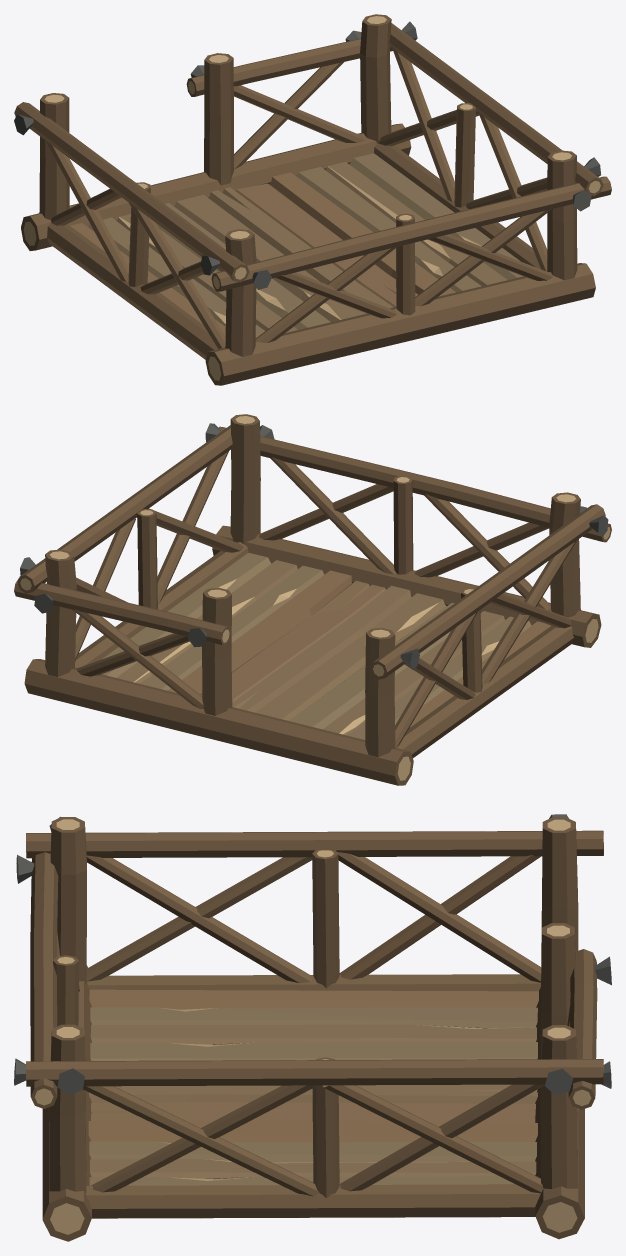
File: rpgpp_ag_tower_01_platform_01a.fbx
3 views of the same model, one above another, from view 1: azimuth 30°, elevation 25°; view 2: azimuth 150°, elevation 25°; view 3: azimuth 270°, elevation 25° (orthographic). The views are drawn at different scales.
Parts seen in each view (by area): view 1: rpgpp_ag_tower_01_platform_01a; view 2: rpgpp_ag_tower_01_platform_01a; view 3: rpgpp_ag_tower_01_platform_01a.
Boxes of the visible parts, bbox=[...] form: rpgpp_ag_tower_01_platform_01a: bbox=[14, 14, 611, 385]; rpgpp_ag_tower_01_platform_01a: bbox=[14, 414, 611, 785]; rpgpp_ag_tower_01_platform_01a: bbox=[14, 814, 611, 1241].
Size of the model in its own units: 4.84 by 1.72 by 4.81.
